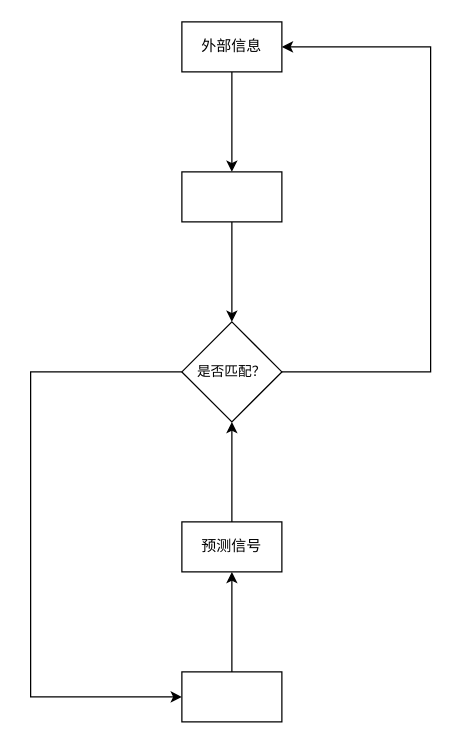
This 463x744 diagram has some shape labels left out. The shapes that lost their labels are listed below. From the top down, each one's centre as x and y in pixels, then its label:
At (231,196): "电信号".
At (231,696): "预测模型".
